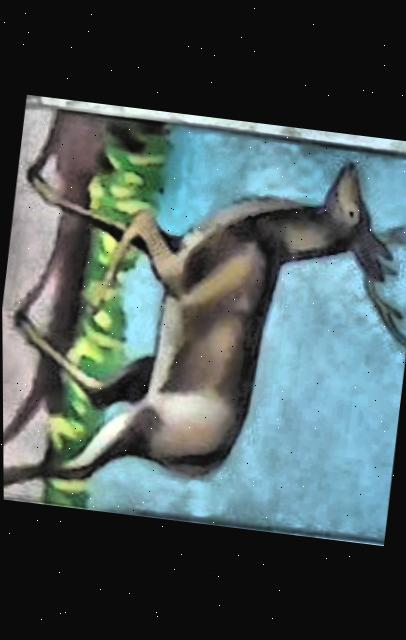El Valiente: (2, 100, 406, 540)
